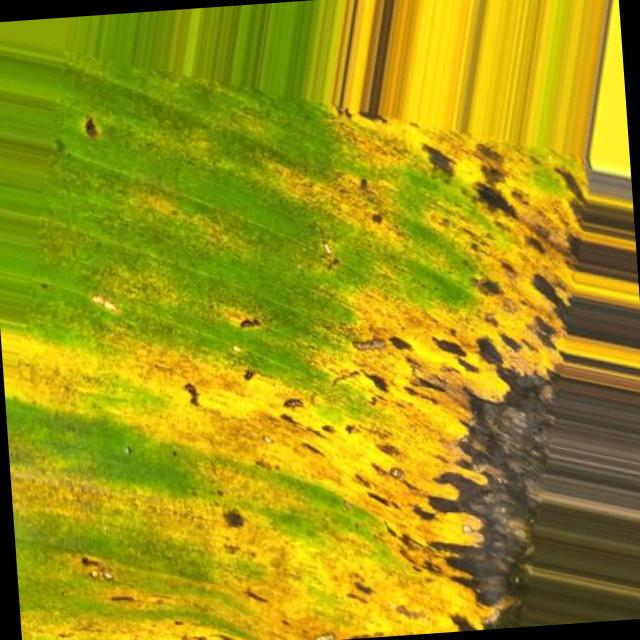Banana_Black_Sigatoka: (268, 71, 612, 640), (37, 334, 297, 640)
